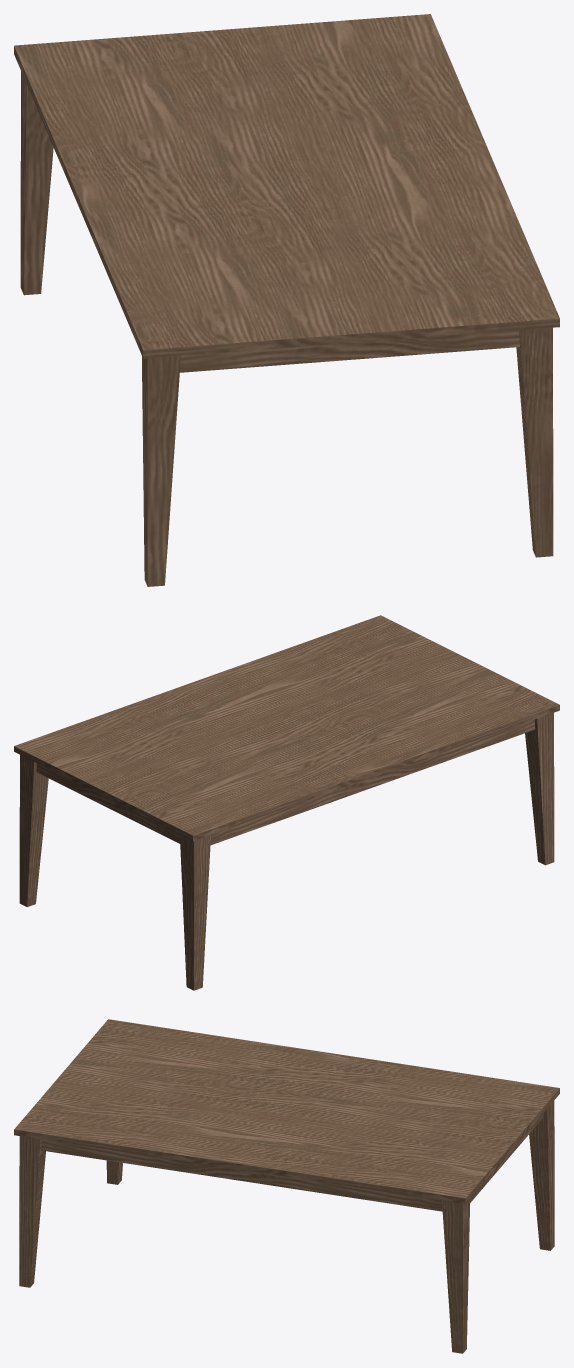
3 renders of one model, top to bottom at view 1: azimuth 30°, elevation 25°; view 2: azimuth 150°, elevation 25°; view 3: azimuth 270°, elevation 25°, orthographic. The views are drawn at different scales.
Parts seen in each view (by area): view 1: Table_13004_Wood_08003_0; view 2: Table_13004_Wood_08003_0; view 3: Table_13004_Wood_08003_0.
Part boxes in pixels (<box>): Table_13004_Wood_08003_0: <box>14,14,559,586</box>; Table_13004_Wood_08003_0: <box>14,615,559,990</box>; Table_13004_Wood_08003_0: <box>14,1019,559,1353</box>.
Bounding box in the file's own units: 1.99 × 0.8168 × 2.57.
Materials: 1 (1 with a texture image).
